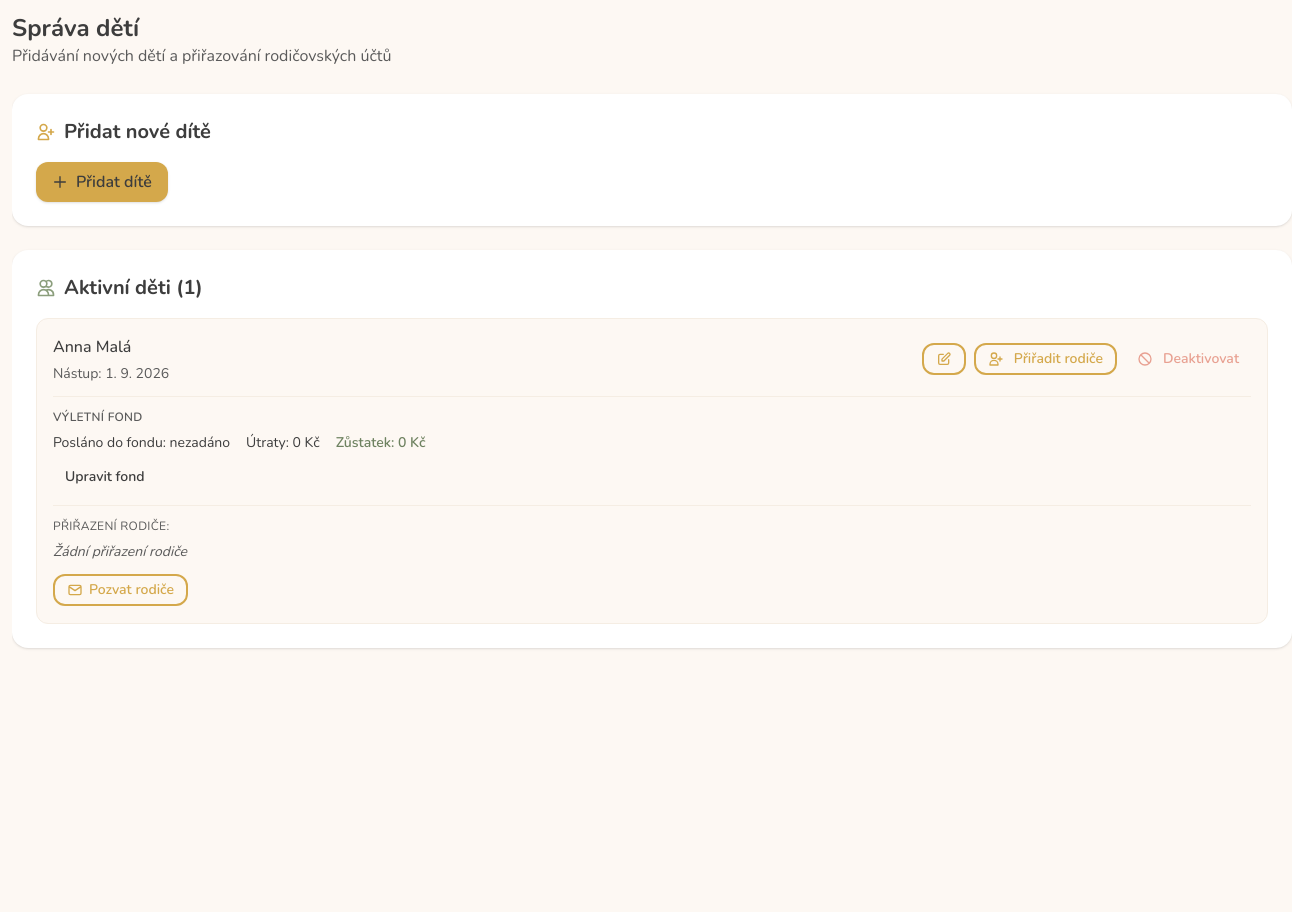
Test: ChildrenManagementPage › edits a child's fund contribution
The width and height of the screenshot is (1292, 912).
Click the button with aria-label "Upravit fond Anna Malá" at coordinates (105, 477), box [53,461,156,493]
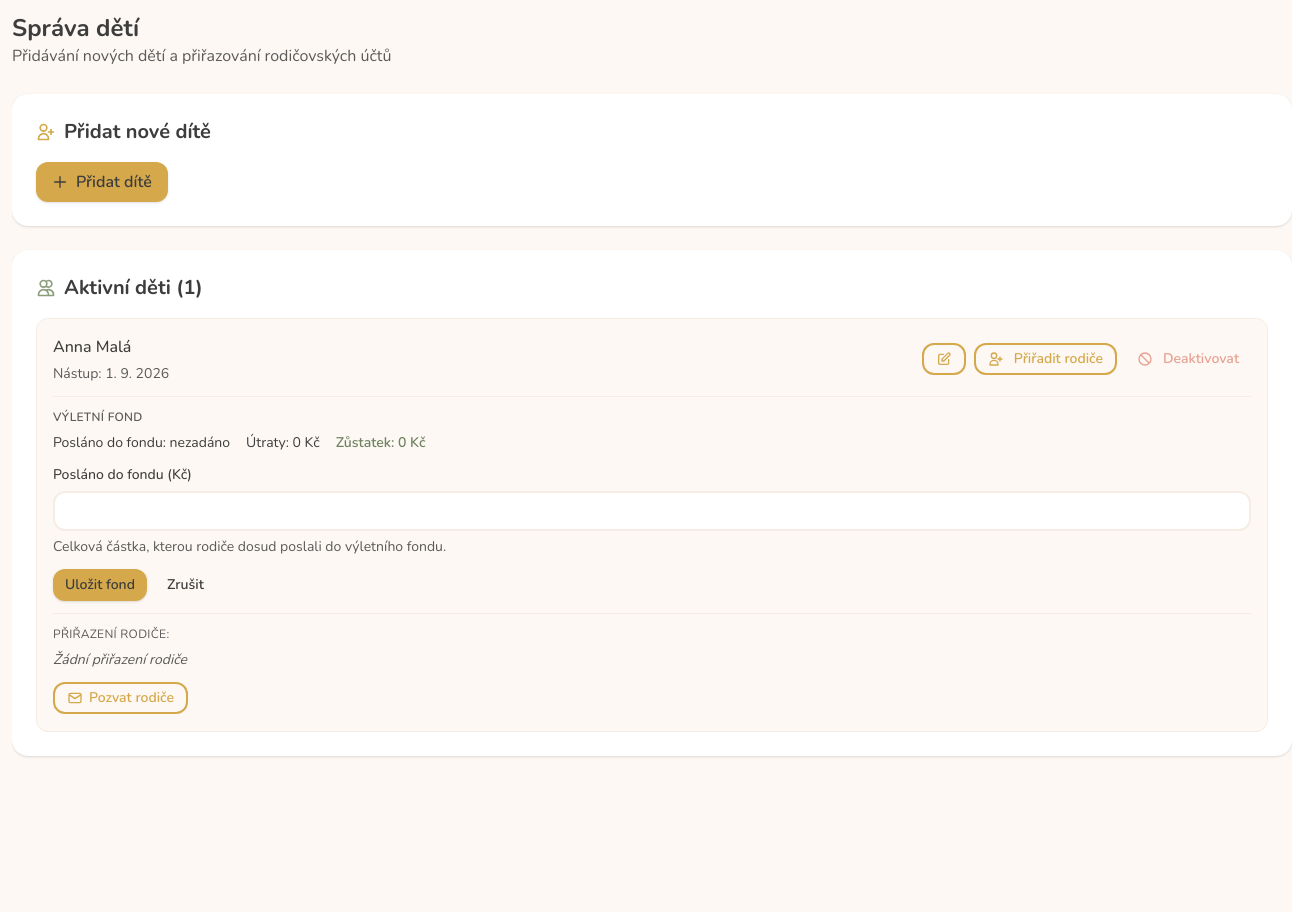
Type "1500" into the number field labelled "Posláno do fondu (Kč)" at coordinates (652, 511), box [53,491,1251,531]
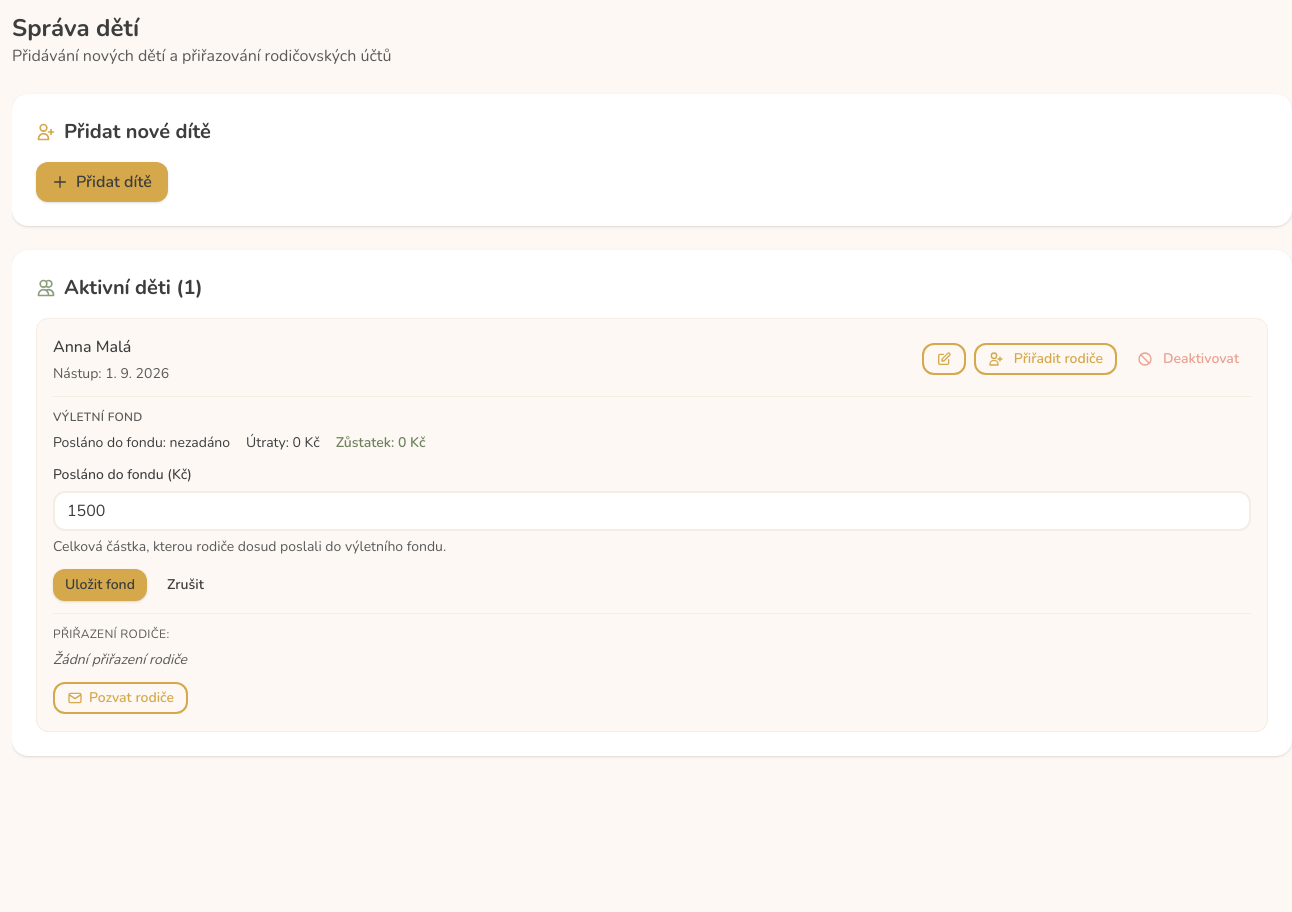
Click the button "Uložit fond" at coordinates (100, 585), box [53,569,147,601]
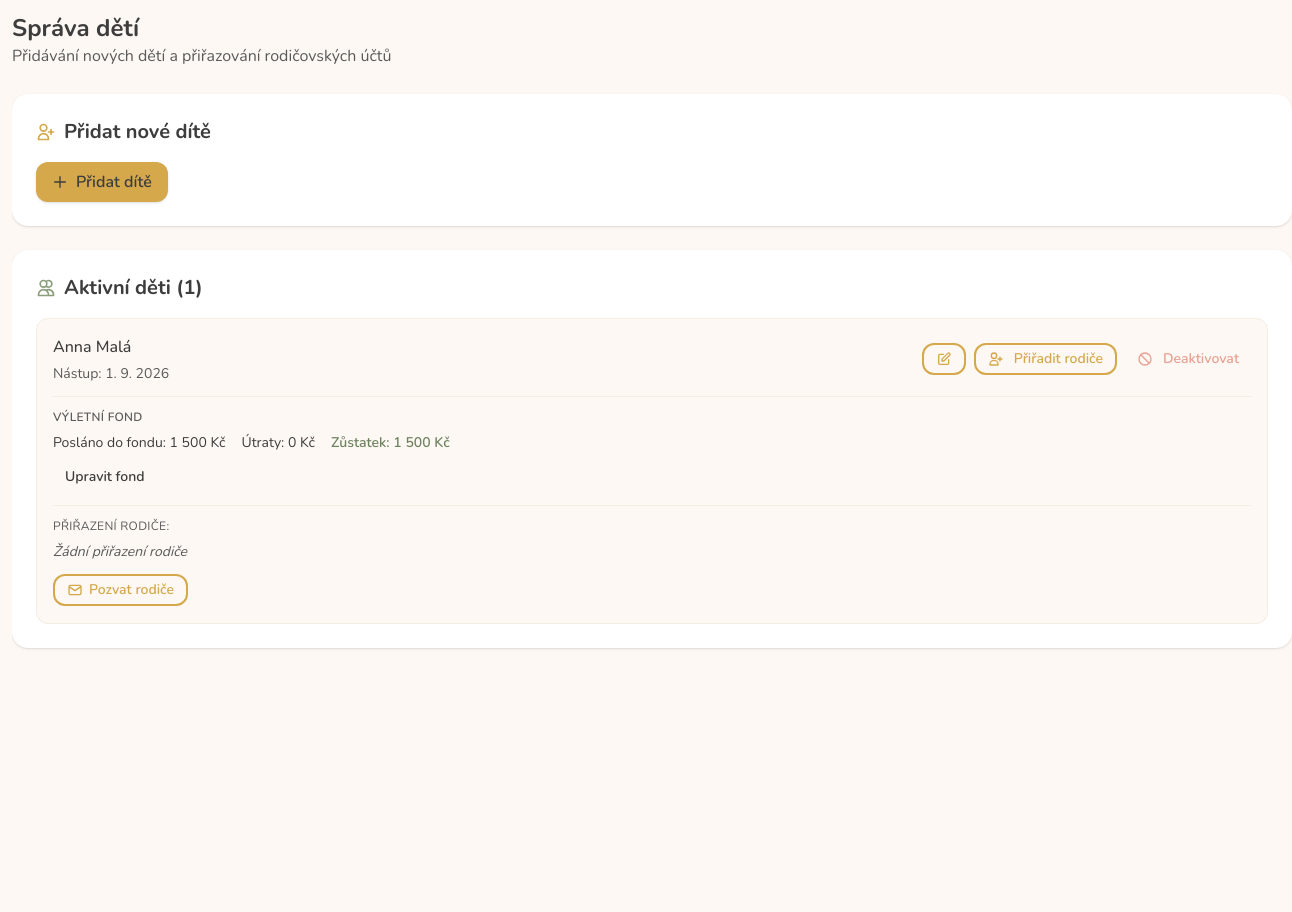
Now the text "Zůstatek: 1 500 Kč" is shown, box [331,433,450,453]
